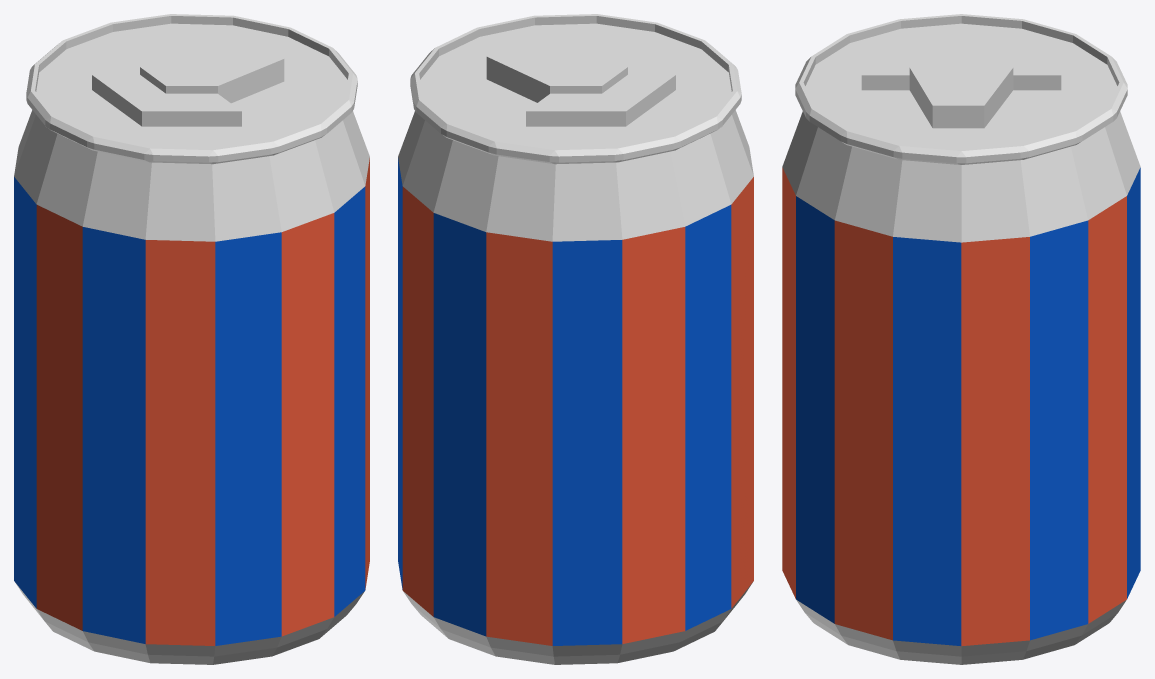
Rendered from can.glb.
The picture shows the model from 3 angles, left to right: view 1: azimuth 30°, elevation 25°; view 2: azimuth 150°, elevation 25°; view 3: azimuth 270°, elevation 25°; orthographic projection.
Parts seen in each view (by area): view 1: can; view 2: can; view 3: can.
Boxes of the visible parts, left/top/right/bottom form: can: left=14, top=14, right=369, bottom=664; can: left=398, top=14, right=753, bottom=664; can: left=782, top=14, right=1140, bottom=664.
Size of the model in its own units: 0.2031 by 0.3311 by 0.2031.
